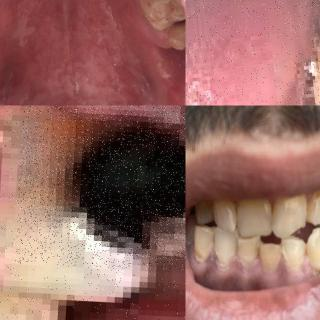cavities: (44, 106, 186, 272), (168, 15, 186, 42)
maligned: (192, 220, 216, 262), (279, 232, 304, 271), (258, 236, 284, 273), (236, 229, 260, 269), (308, 227, 320, 270)
stains: (306, 189, 320, 223), (191, 240, 209, 264), (301, 242, 315, 264), (208, 232, 220, 254)
